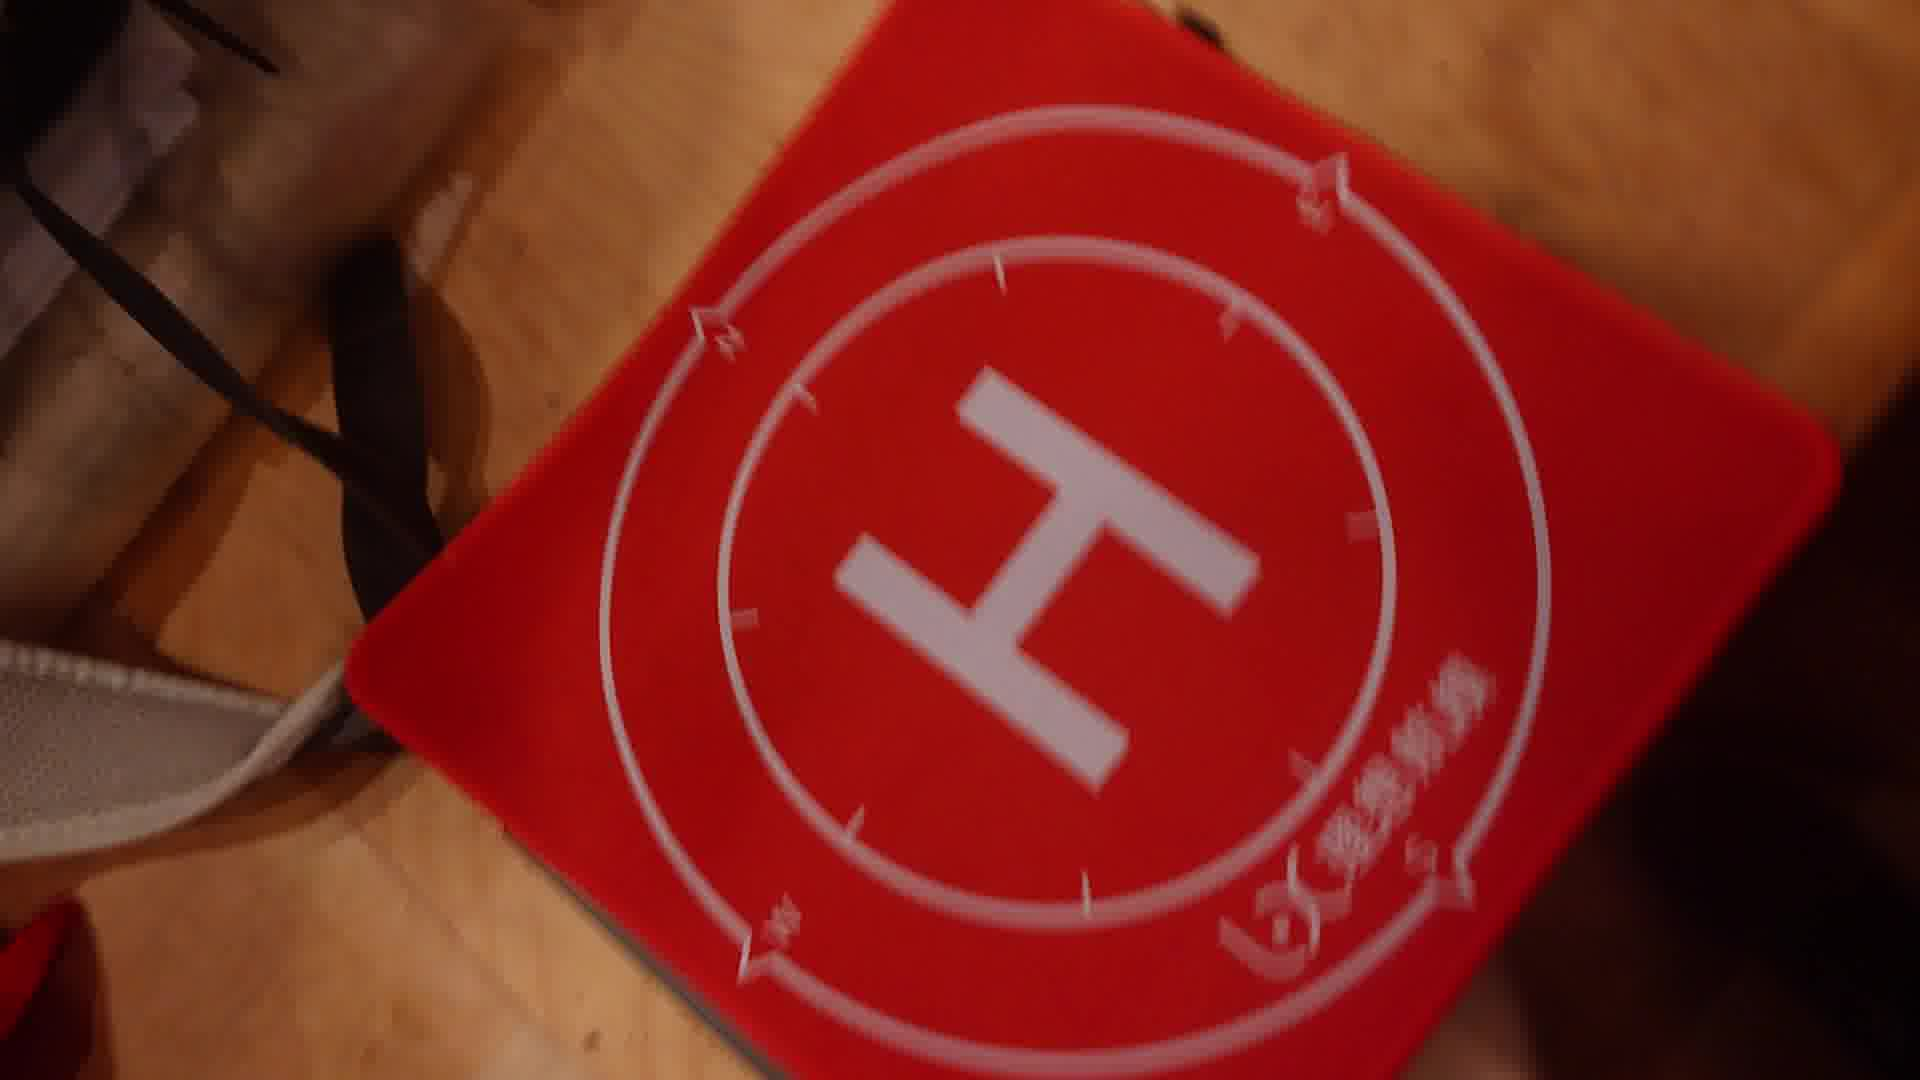H: (832, 360, 1262, 793)
